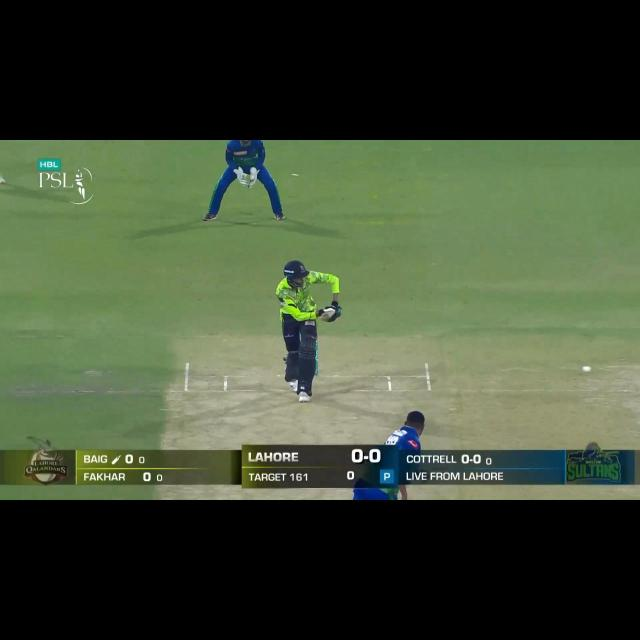bat: (320, 308, 334, 320)
toe: (316, 309, 327, 318)
